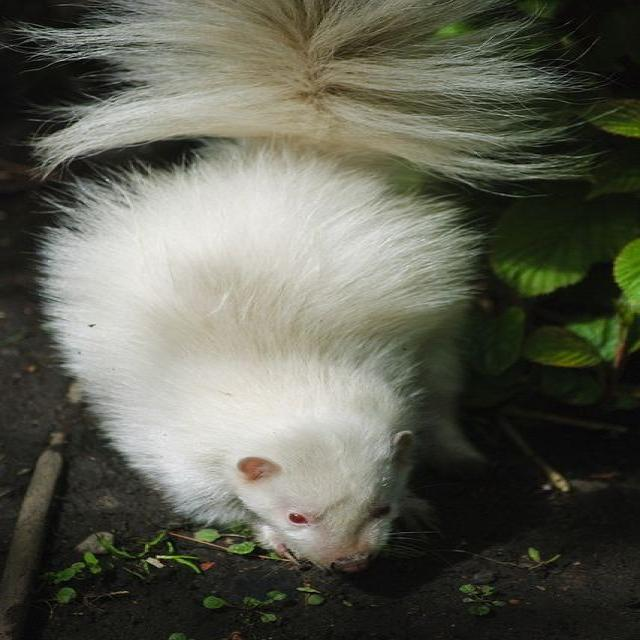Skunk: (0, 0, 556, 586)
